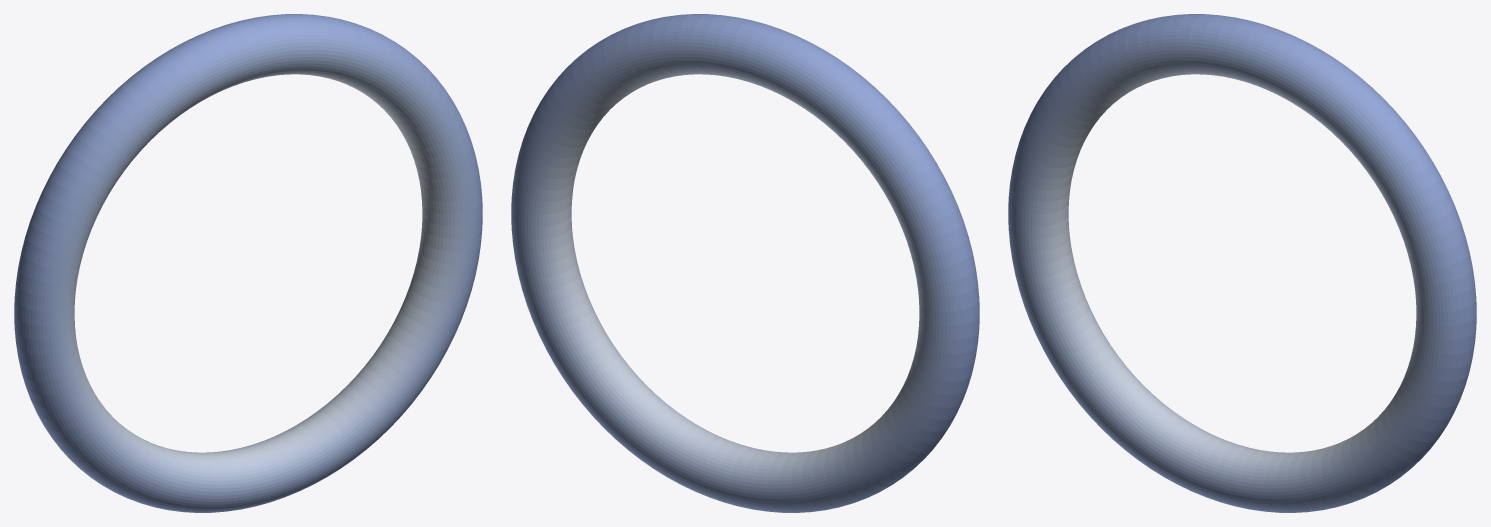
3 renders of one model, left to right at view 1: azimuth 30°, elevation 25°; view 2: azimuth 150°, elevation 25°; view 3: azimuth 330°, elevation 25°, orthographic.
Parts seen in each view (by area): view 1: world; view 2: world; view 3: world.
Part boxes in pixels (x1,y1,x2,y2): world: (14, 14, 482, 512); world: (511, 14, 979, 512); world: (1008, 14, 1476, 512).
Size of the model in its own units: 29.33 by 29.33 by 3.33.
